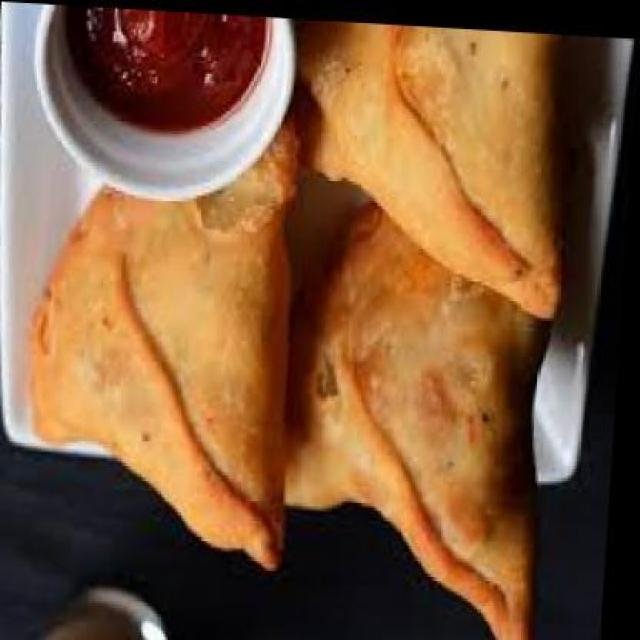samosa: (278, 187, 569, 640), (22, 106, 309, 565), (283, 14, 582, 314)
